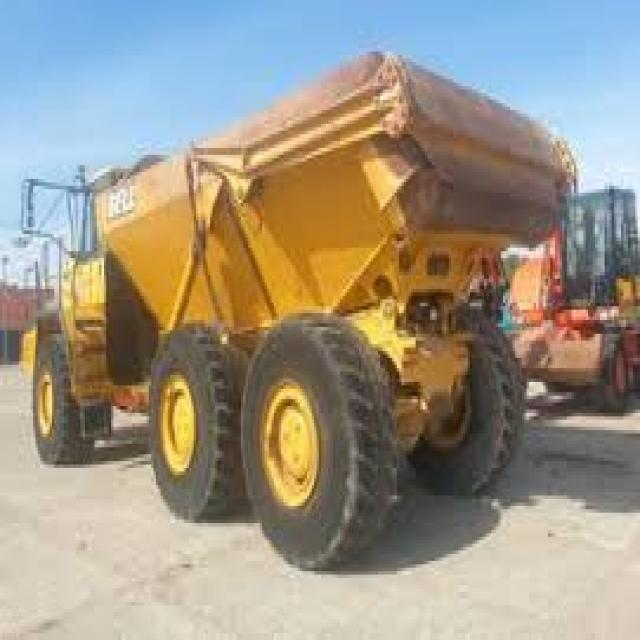dump_truck: (11, 38, 578, 571)
